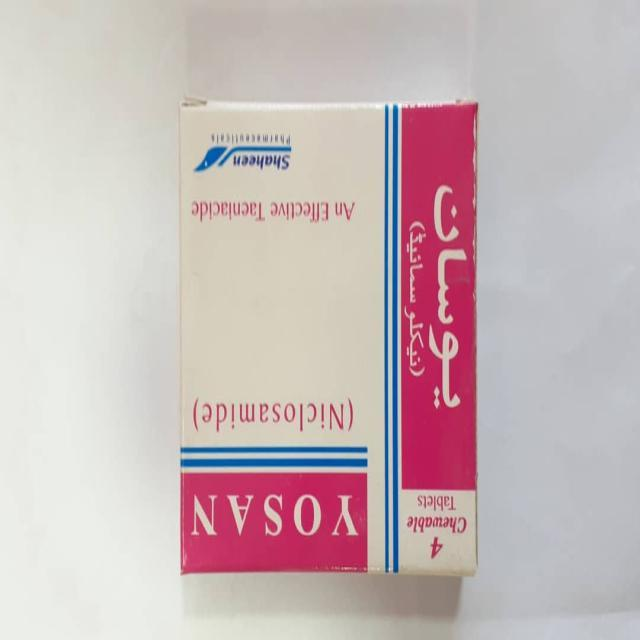drug-name: (188, 486, 360, 540)
